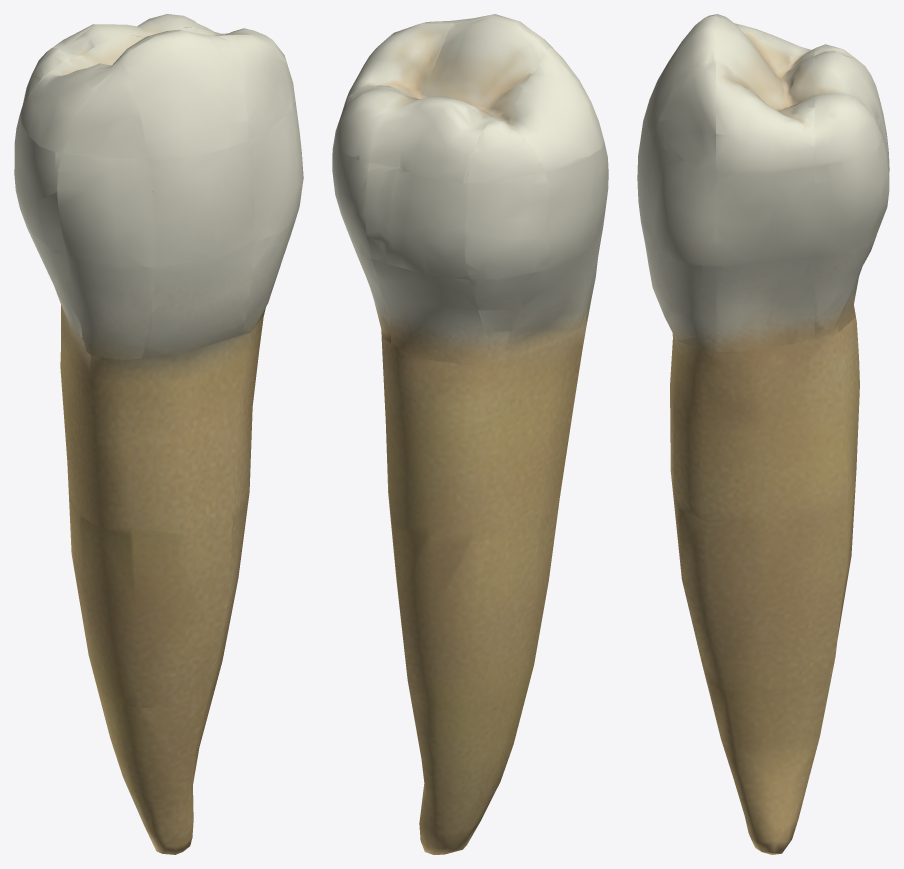
File: Right_Lower_Second_Premolar.glb
The picture shows the model from 3 angles, left to right: view 1: azimuth 30°, elevation 25°; view 2: azimuth 150°, elevation 25°; view 3: azimuth 270°, elevation 25°; orthographic projection. The views are drawn at different scales.
Visible parts, largest first — view 1: Human_Teeth_Lower_Second_Premolar_Geo; view 2: Human_Teeth_Lower_Second_Premolar_Geo; view 3: Human_Teeth_Lower_Second_Premolar_Geo.
Part boxes in pixels (box(x1,y1,x2,y2)): Human_Teeth_Lower_Second_Premolar_Geo: box(14, 14, 303, 854); Human_Teeth_Lower_Second_Premolar_Geo: box(332, 14, 608, 854); Human_Teeth_Lower_Second_Premolar_Geo: box(637, 14, 889, 854).
Bounding box in the file's own units: 0.9402 × 3.07 × 0.8644.
Materials: 30 (30 with a texture image).
